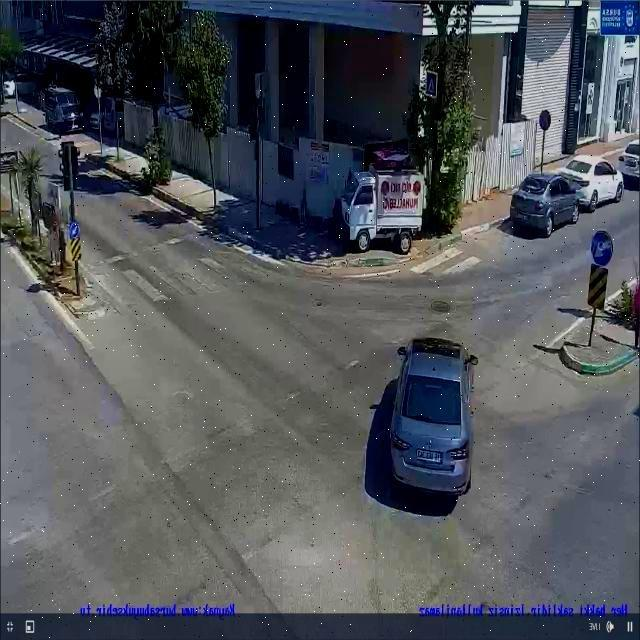Car: (382, 333, 480, 496), (508, 173, 581, 241), (559, 155, 628, 211)
Truck: (335, 169, 426, 254)
Van: (41, 88, 89, 136)
